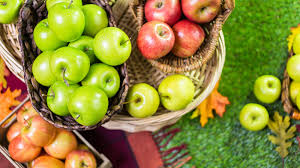apple: (69, 87, 109, 127), (135, 22, 174, 60), (168, 20, 206, 59), (46, 6, 84, 43), (91, 30, 132, 64), (158, 75, 196, 108), (53, 47, 89, 81), (127, 82, 160, 119), (79, 65, 121, 93), (46, 82, 85, 112), (43, 127, 74, 157), (239, 100, 270, 130), (22, 119, 56, 145), (182, 2, 218, 26), (145, 2, 180, 26), (9, 133, 40, 160), (252, 76, 282, 103)
